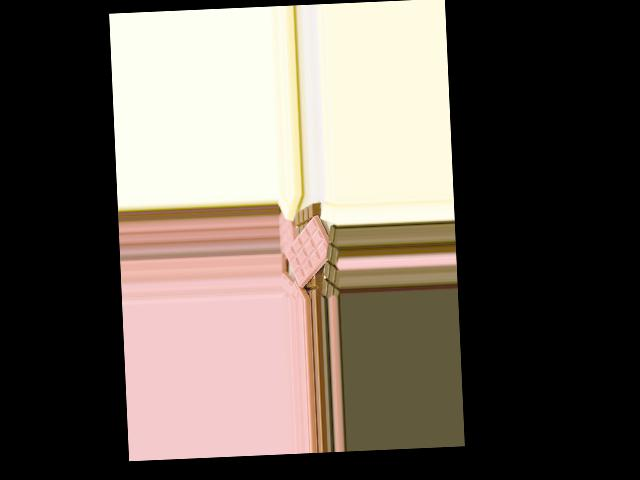chocolate: (281, 216, 340, 288)
